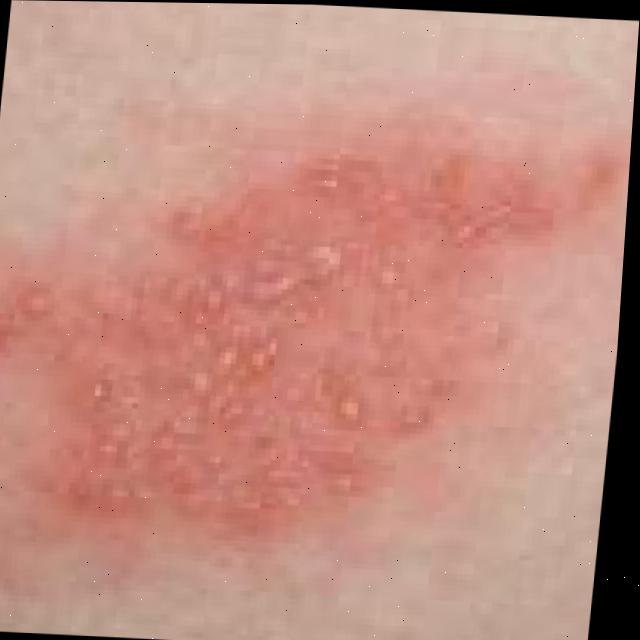Shingles: (0, 123, 562, 545)
